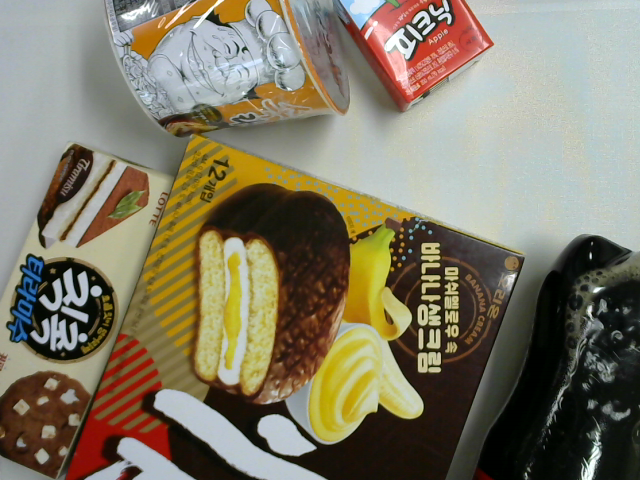Chicchok_Tiramisu: (1, 141, 179, 480)
Choco_Pie_Banana: (61, 131, 526, 480)
Coca_Cola_1.5L: (470, 231, 639, 480)
Hejangchan: (99, 1, 357, 144)
Picnic_Apple: (326, 1, 495, 117)
